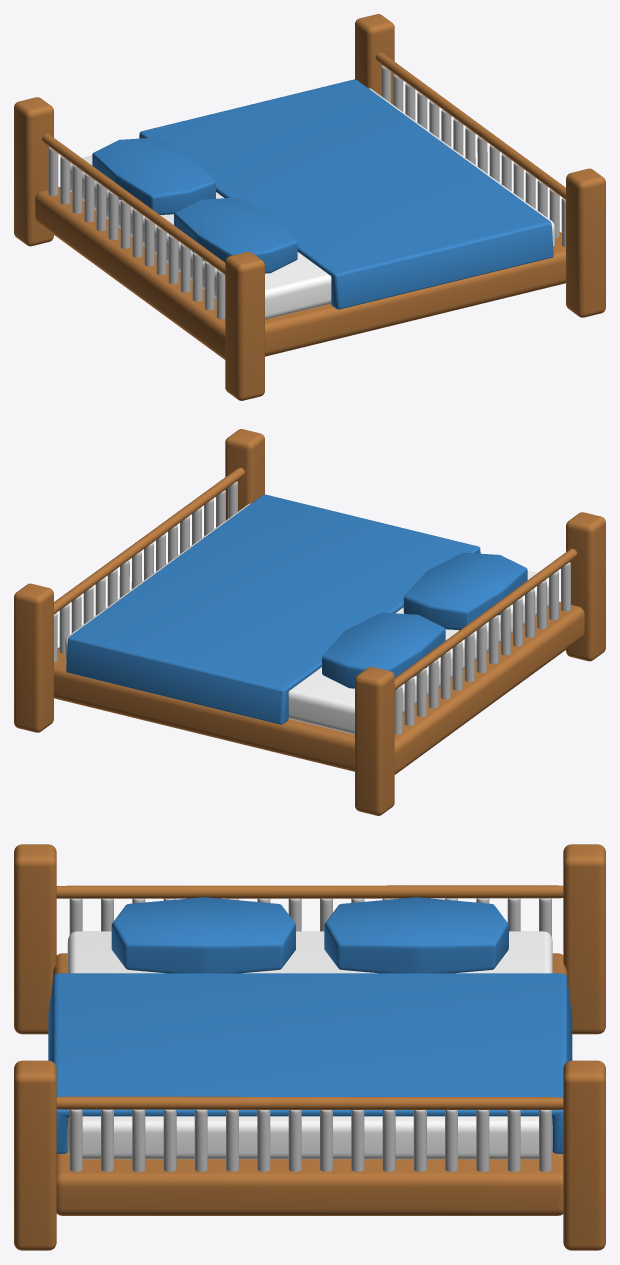
The model's file is simple_double_bed.obj.
The picture shows the model from 3 angles, top to bottom: view 1: azimuth 30°, elevation 25°; view 2: azimuth 150°, elevation 25°; view 3: azimuth 270°, elevation 25°; orthographic projection. The views are drawn at different scales.
Visible parts, largest first — view 1: simple_double_bed; view 2: simple_double_bed; view 3: simple_double_bed.
Boxes of the visible parts, left/top/right/bottom form: simple_double_bed: left=14, top=14, right=605, bottom=400; simple_double_bed: left=14, top=429, right=605, bottom=815; simple_double_bed: left=14, top=844, right=605, bottom=1250.
Size of the model in its own units: 1.88 by 0.6647 by 2.01.
